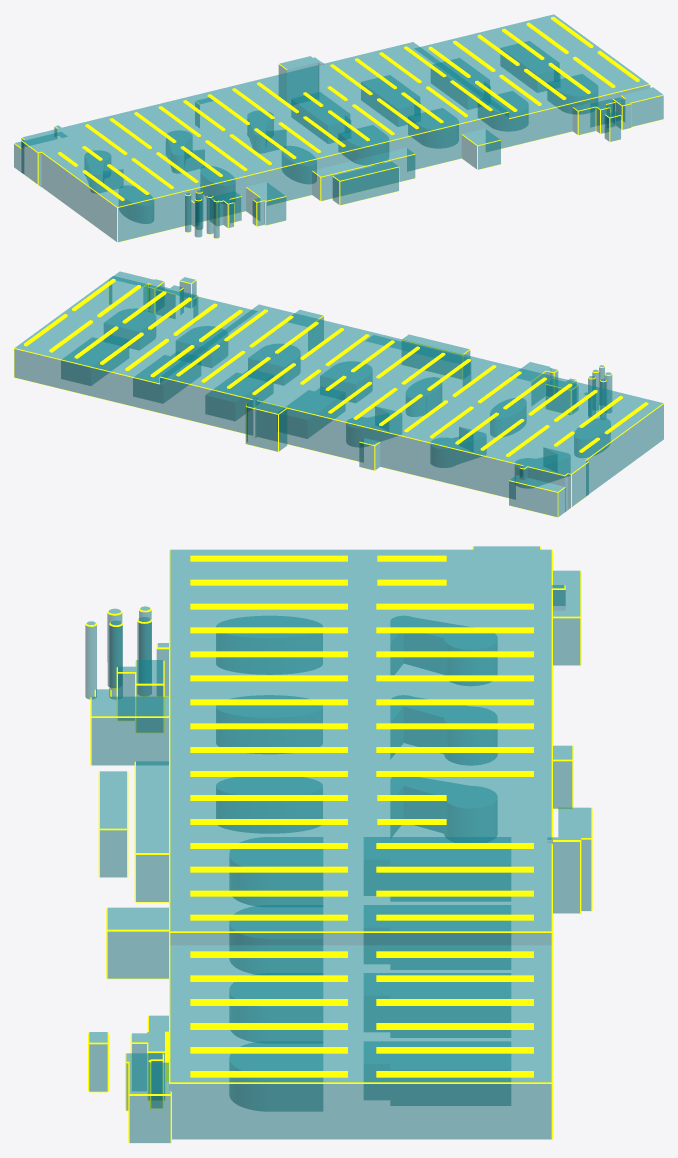
File: factory.glb
3 renders of one model, top to bottom at view 1: azimuth 30°, elevation 25°; view 2: azimuth 150°, elevation 25°; view 3: azimuth 270°, elevation 25°, orthographic. The views are drawn at different scales.
Parts seen in each view (by area): view 1: Mesh_0, Mesh_1; view 2: Mesh_0, Mesh_1; view 3: Mesh_0, Mesh_1.
Part boxes in pixels (x1,y1,x2,y2): Mesh_0: (14, 14, 663, 241); Mesh_1: (14, 16, 663, 242); Mesh_0: (14, 271, 663, 516); Mesh_1: (14, 278, 663, 517); Mesh_0: (85, 546, 591, 1142); Mesh_1: (85, 546, 592, 1143).
Bounding box in the file's own units: 0.9293 × 0.0616 × 0.3778.
